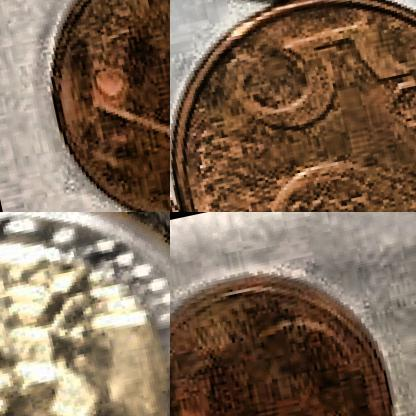coin: (170, 0, 415, 211), (170, 250, 415, 415), (0, 212, 169, 415), (26, 0, 169, 211)
